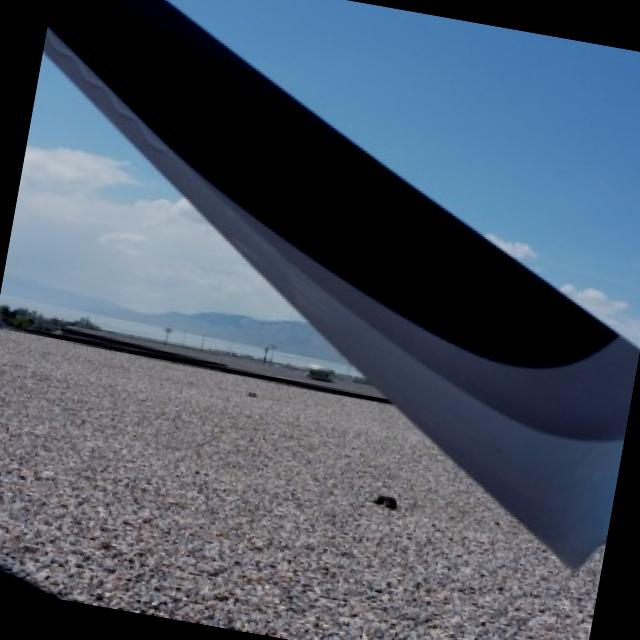healthy: (46, 0, 634, 563), (0, 329, 602, 640)
